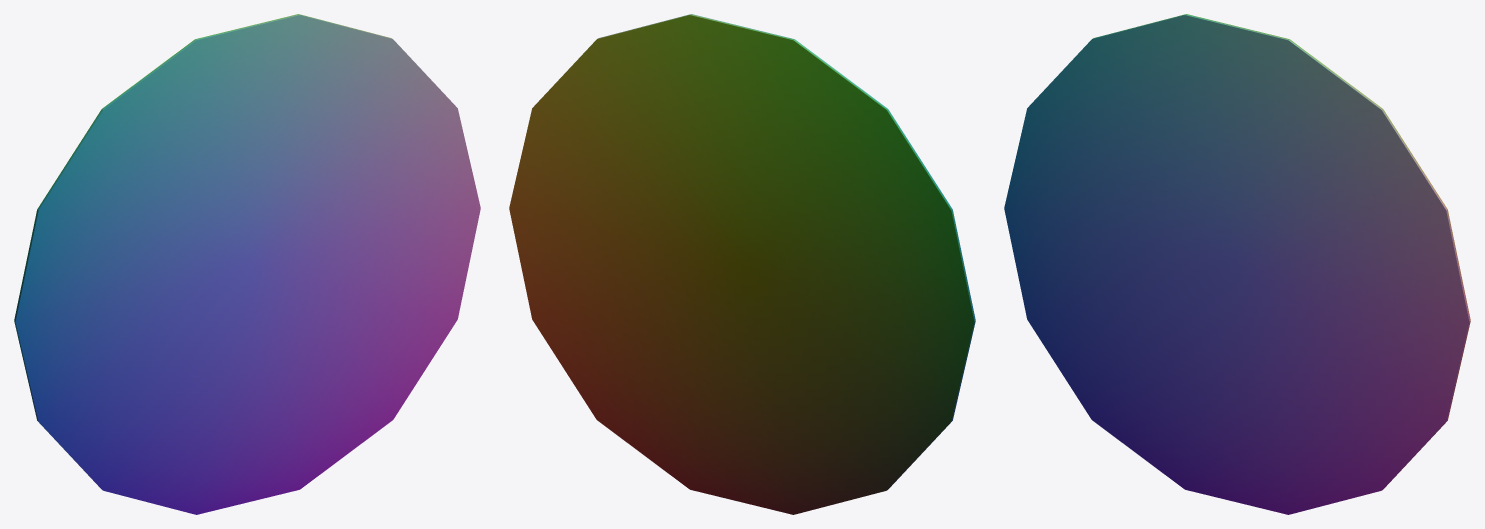
The model's file is zeometry-flat-shapes-flat-oval_v8.glb.
3 views of the same model, side by side, from view 1: azimuth 30°, elevation 25°; view 2: azimuth 150°, elevation 25°; view 3: azimuth 330°, elevation 25° (orthographic).
Visible parts, largest first — view 1: Flat Oval_v8; view 2: Flat Oval_v8; view 3: Flat Oval_v8.
Part boxes in pixels (<box>): Flat Oval_v8: <box>14,14,480,514</box>; Flat Oval_v8: <box>509,14,975,514</box>; Flat Oval_v8: <box>1004,14,1470,514</box>.
Bounding box in the file's own units: 0.5 × 0.4875 × 0.0028.
